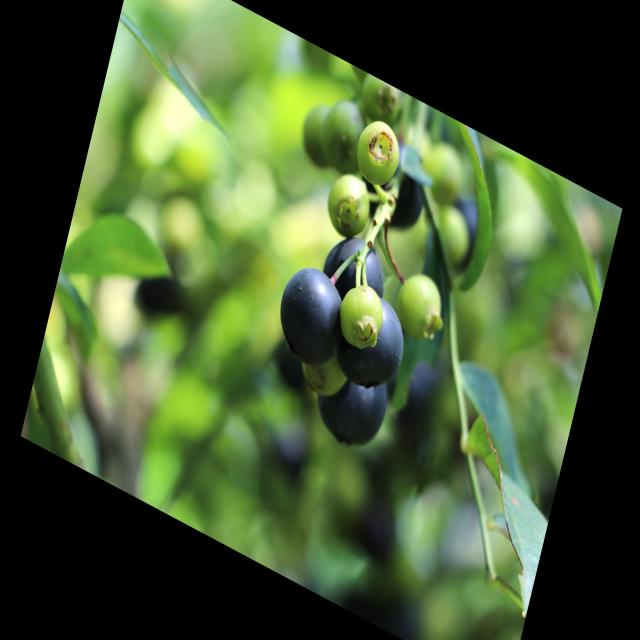blueberry: (332, 278, 416, 402), (270, 256, 352, 378), (308, 354, 391, 464), (357, 130, 435, 242), (321, 222, 393, 308), (437, 186, 495, 275)
blueberry-unripe: (390, 262, 445, 346), (335, 275, 389, 357), (352, 108, 403, 192), (324, 167, 374, 245), (317, 96, 364, 172)
